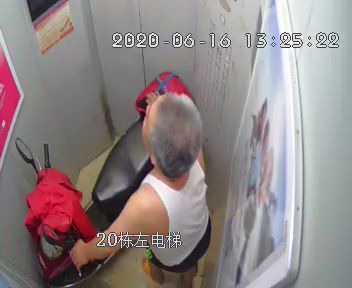Electric-bicycle: (14, 72, 202, 288)
